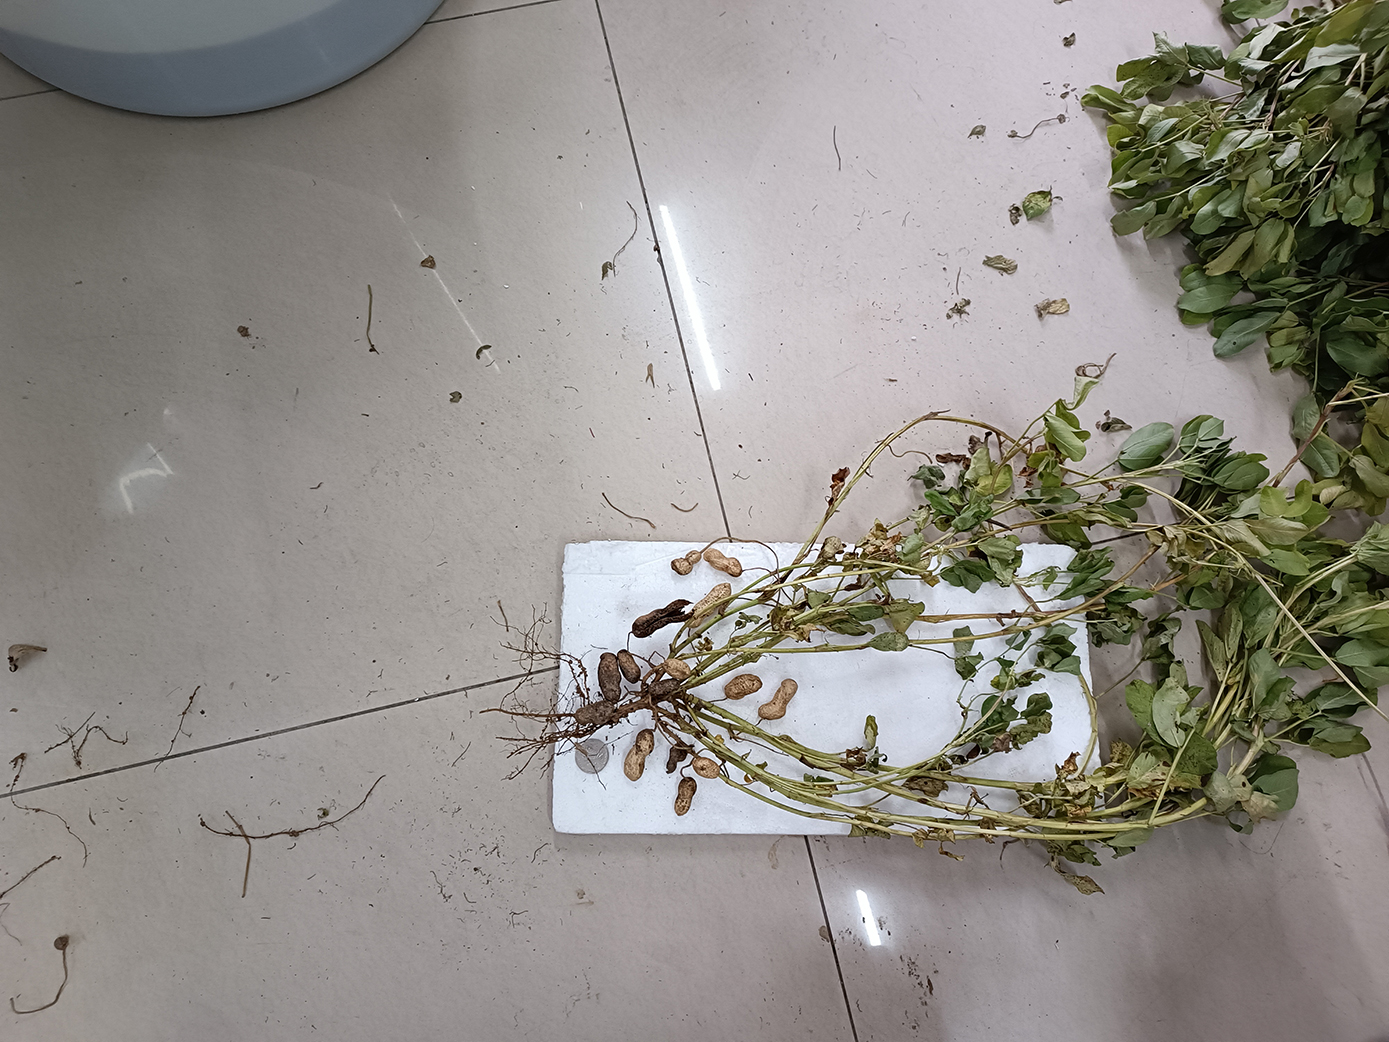h: (685, 582, 732, 627), (759, 678, 798, 720), (623, 729, 653, 782), (704, 548, 743, 577), (724, 673, 763, 701), (670, 549, 701, 575), (693, 757, 721, 779), (662, 658, 691, 679)
l: (632, 599, 692, 638), (597, 653, 622, 702), (576, 701, 614, 725), (674, 778, 697, 817), (617, 648, 641, 684), (667, 741, 688, 775), (646, 680, 679, 693)
